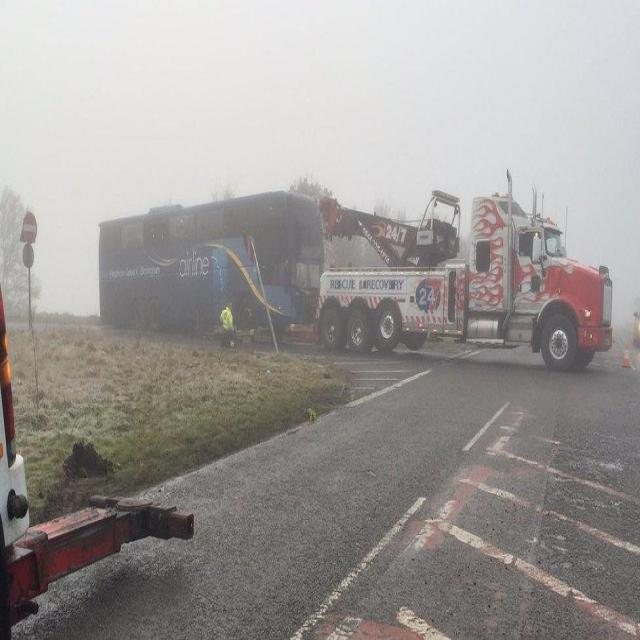Accident: (97, 177, 614, 379)
